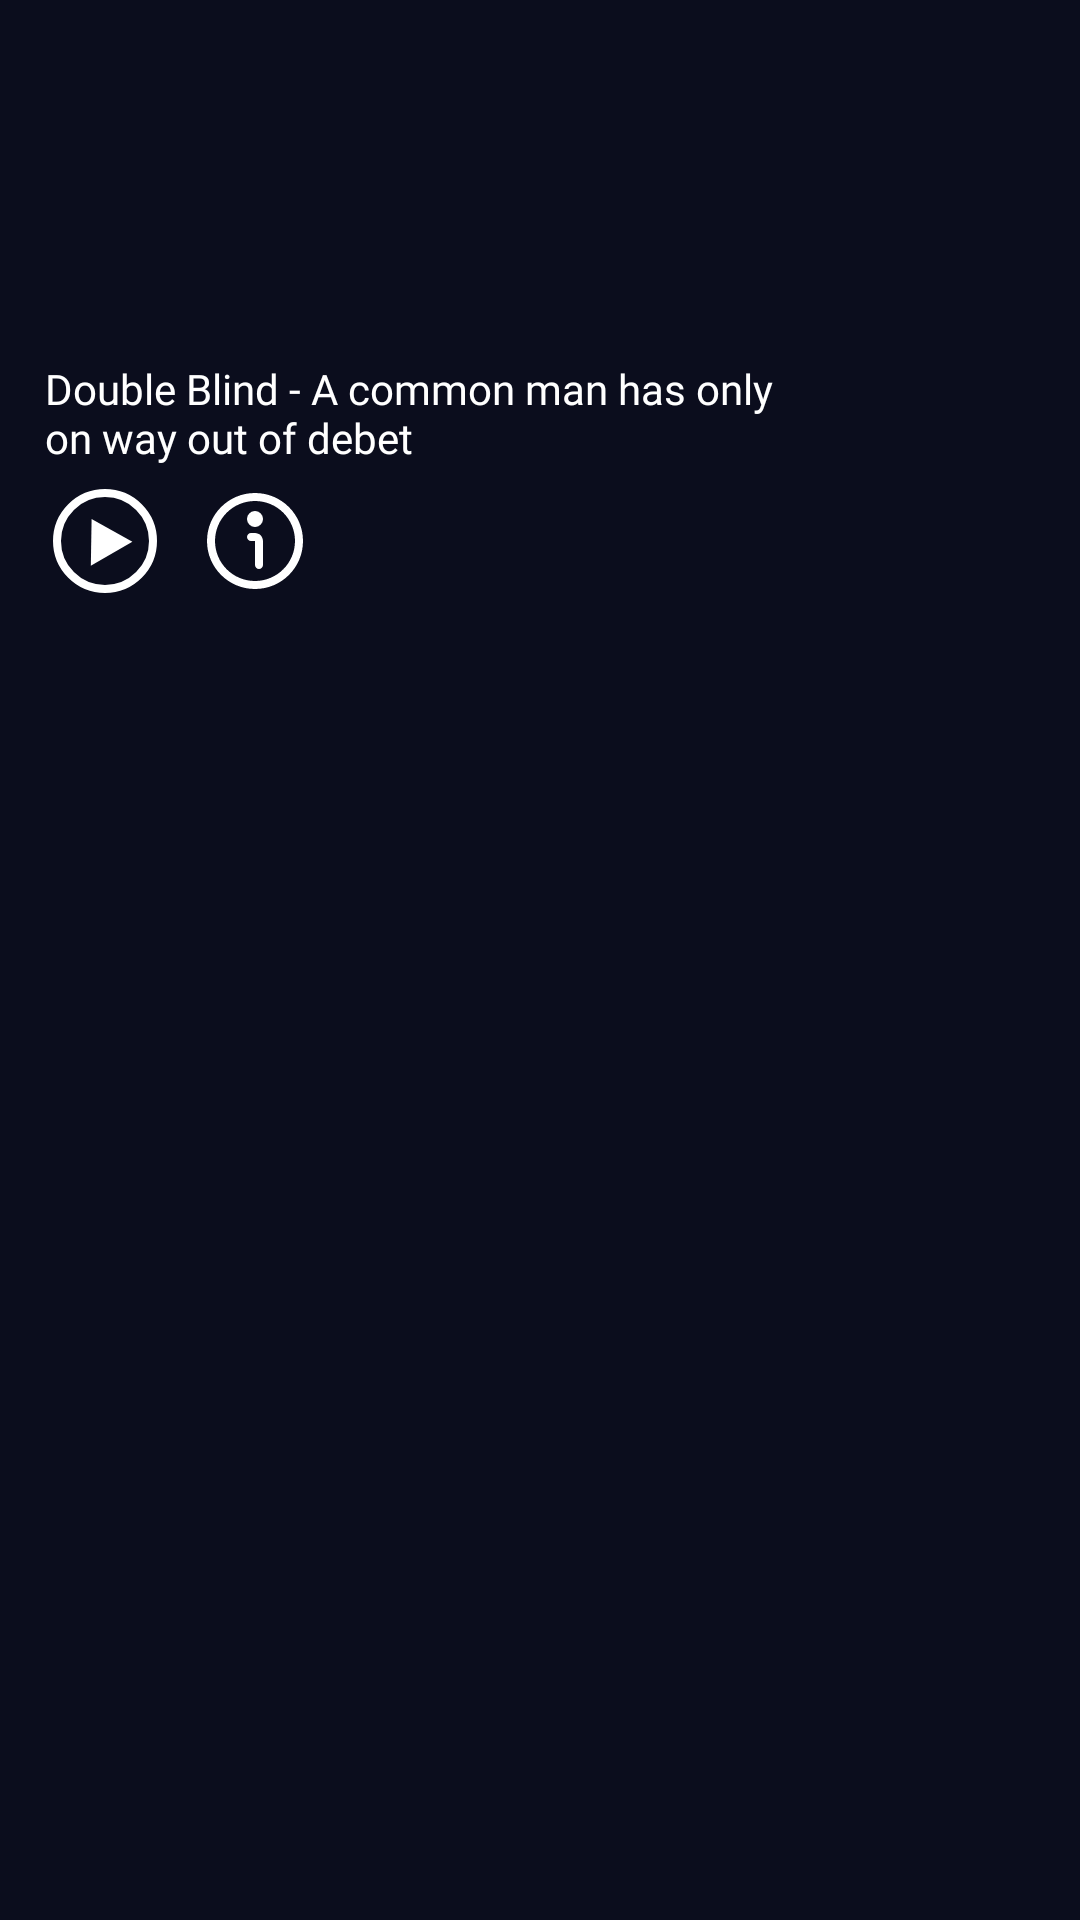

Where to tap for icons on this 1080x1920 app screen, as (x,y):
info: (255,541)
play: (105,541)
